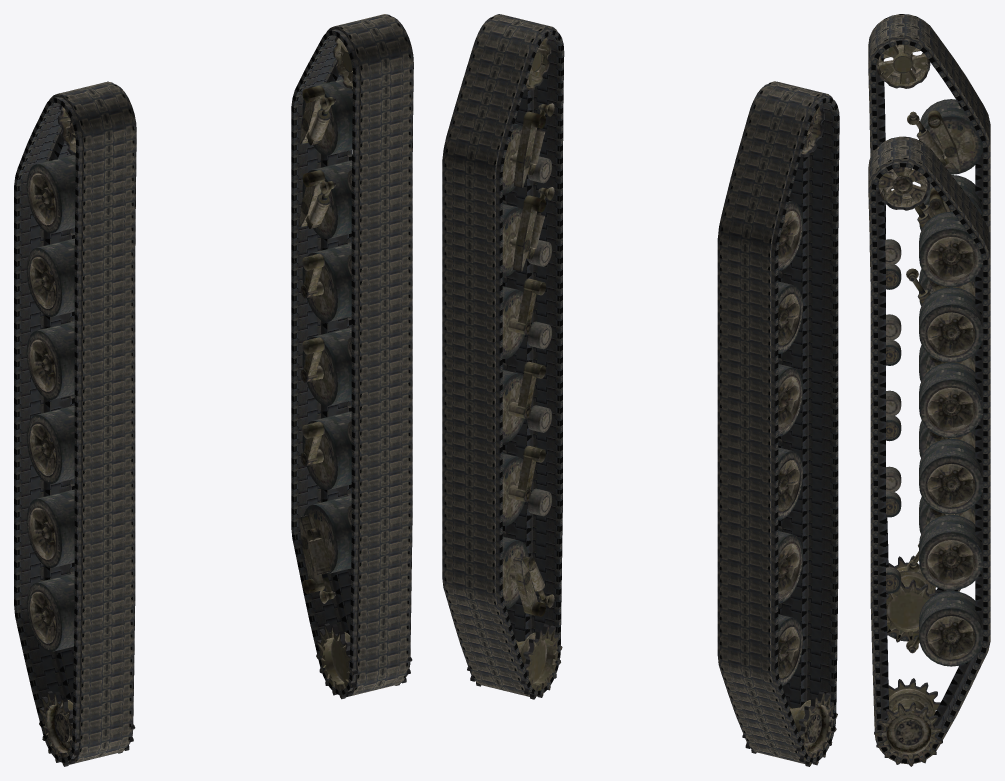
Rendered from Chassis.glb.
The picture shows the model from 3 angles, left to right: view 1: azimuth 30°, elevation 25°; view 2: azimuth 150°, elevation 25°; view 3: azimuth 270°, elevation 25°; orthographic projection. The views are drawn at different scales.
Visible parts, largest first — view 1: set_0_group_0, set_1_group_0, set_3_group_0, set_2_group_0; view 2: set_0_group_0, set_1_group_0, set_3_group_0, set_2_group_0; view 3: set_3_group_0, set_1_group_0, set_2_group_0, set_0_group_0.
Boxes of the visible parts, x1,y1,x2,y2 form: set_0_group_0: [14, 81, 136, 764]; set_1_group_0: [291, 14, 413, 697]; set_3_group_0: [298, 37, 412, 699]; set_2_group_0: [26, 105, 135, 766]; set_0_group_0: [717, 81, 839, 763]; set_1_group_0: [442, 14, 564, 696]; set_3_group_0: [467, 36, 562, 699]; set_2_group_0: [742, 104, 837, 766]; set_3_group_0: [874, 167, 983, 766]; set_1_group_0: [868, 136, 990, 764]; set_2_group_0: [876, 44, 983, 642]; set_0_group_0: [868, 14, 990, 641].
Bounding box in the file's own units: 3.34 × 6.37 × 1.17.
Materials: 4 (4 with a texture image).
